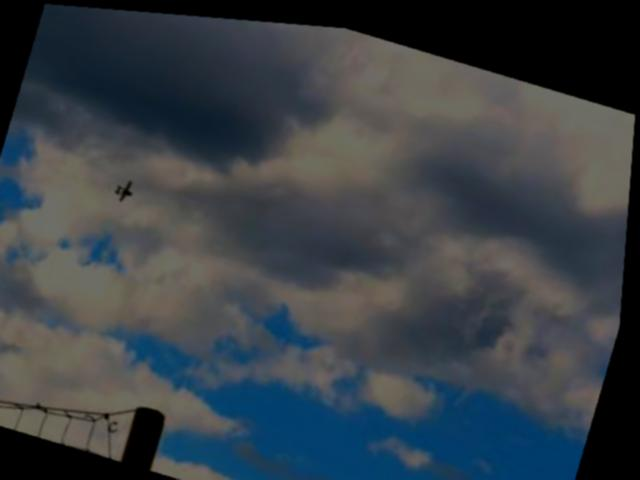uav: (114, 169, 141, 204)
